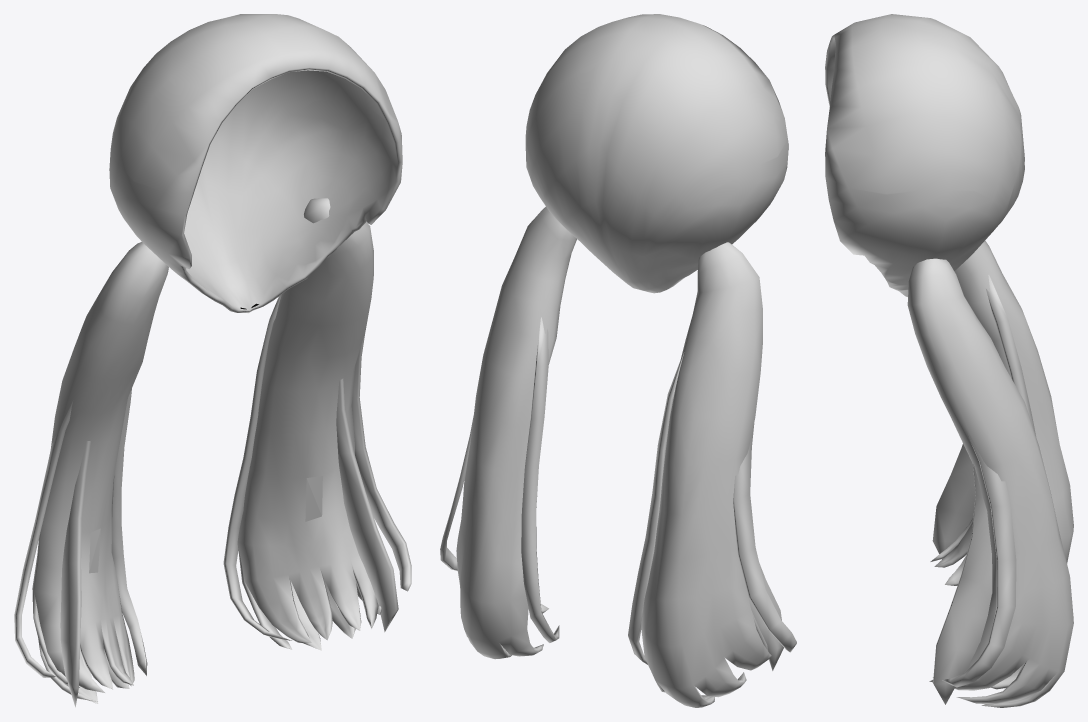
The model's file is Back-Hair 1.fbx.
3 renders of one model, left to right at view 1: azimuth 30°, elevation 25°; view 2: azimuth 150°, elevation 25°; view 3: azimuth 270°, elevation 25°, orthographic. The views are drawn at different scales.
Visible parts, largest first — view 1: カスタム少女_mesh; view 2: カスタム少女_mesh; view 3: カスタム少女_mesh.
Boxes of the visible parts, <box> form: カスタム少女_mesh: <box>14,14,411,707</box>; カスタム少女_mesh: <box>440,14,796,707</box>; カスタム少女_mesh: <box>825,14,1073,707</box>.
Size of the model in its own units: 35.47 by 59.67 by 21.4.
